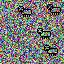sheep: (47, 3, 62, 16), (44, 44, 58, 57), (36, 28, 51, 40), (18, 6, 32, 17)
